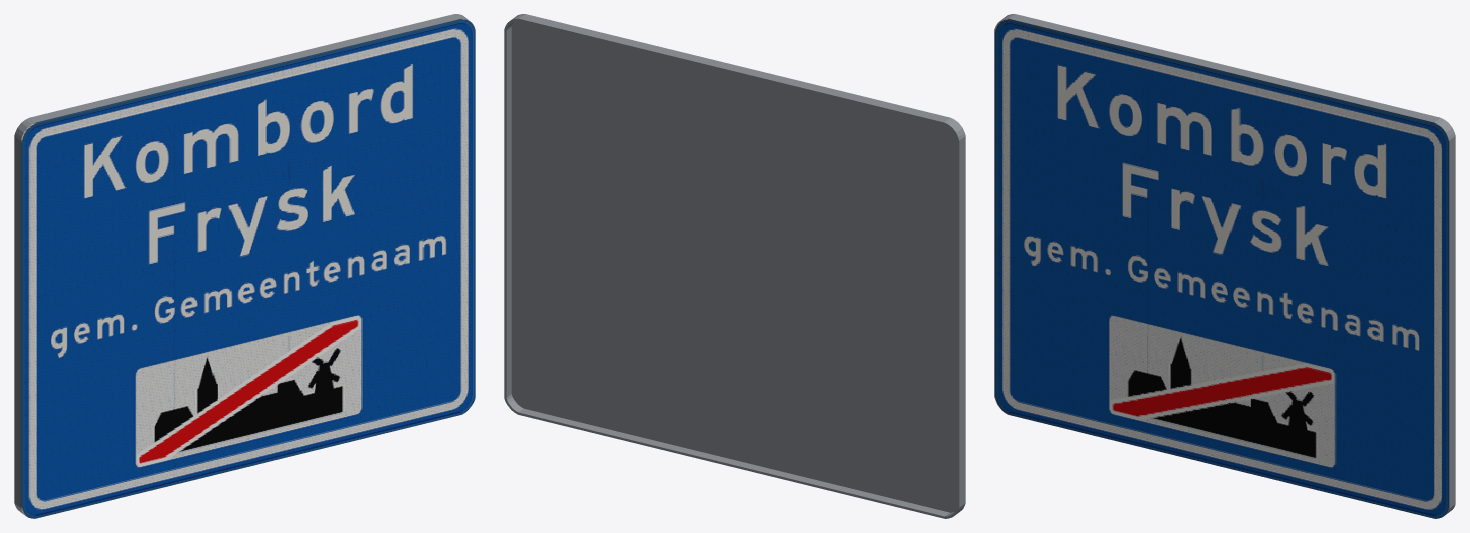
3 renders of one model, left to right at view 1: azimuth 30°, elevation 25°; view 2: azimuth 150°, elevation 25°; view 3: azimuth 330°, elevation 25°, orthographic.
Visible parts, largest first — view 1: cat_ec0c4b02ece24fda; view 2: cat_ec0c4b02ece24fda; view 3: cat_ec0c4b02ece24fda.
Boxes of the visible parts, x1,y1,x2,y2 form: cat_ec0c4b02ece24fda: [14, 14, 475, 518]; cat_ec0c4b02ece24fda: [504, 14, 965, 518]; cat_ec0c4b02ece24fda: [994, 14, 1455, 518].
Bounding box in the file's own units: 0.6 × 0.015 × 0.4993.
2 materials, 1 textured.
